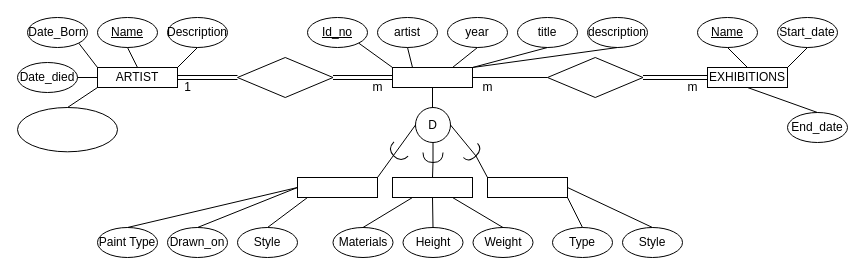
Some shapes in this 865 by 275 pixel diagram are drawn without their labels. Each missing label, with the box of its shape:
ART_OBJECT: (392, 66, 472, 88)
Associated: (236, 56, 333, 98)
Country_of_origin: (16, 106, 118, 152)
OTHER: (486, 176, 568, 198)
PAINTING: (296, 176, 378, 198)
SCULPTURE: (392, 176, 472, 198)
Shown: (546, 56, 643, 98)
